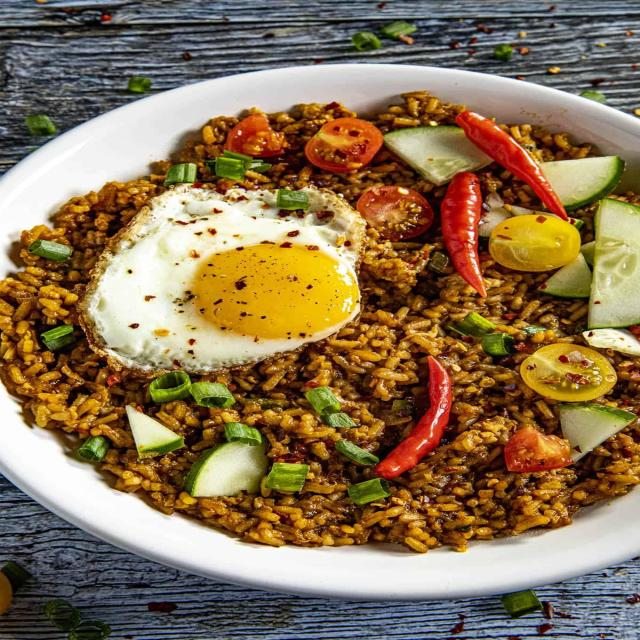Nasi Goreng: (6, 113, 640, 556)
